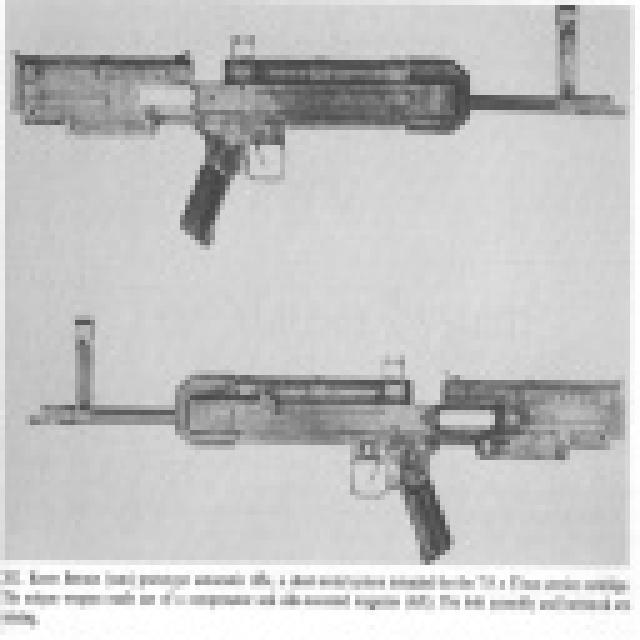Rifle: (0, 283, 640, 599), (0, 0, 640, 275)
